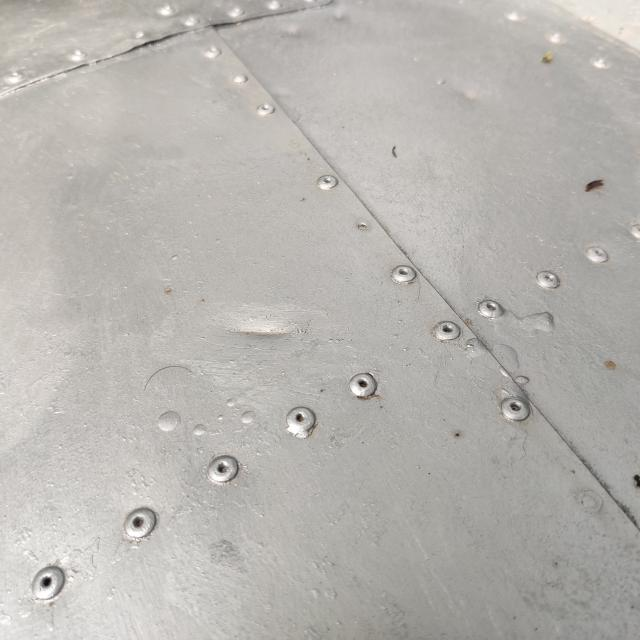dent: (218, 279, 328, 382)
